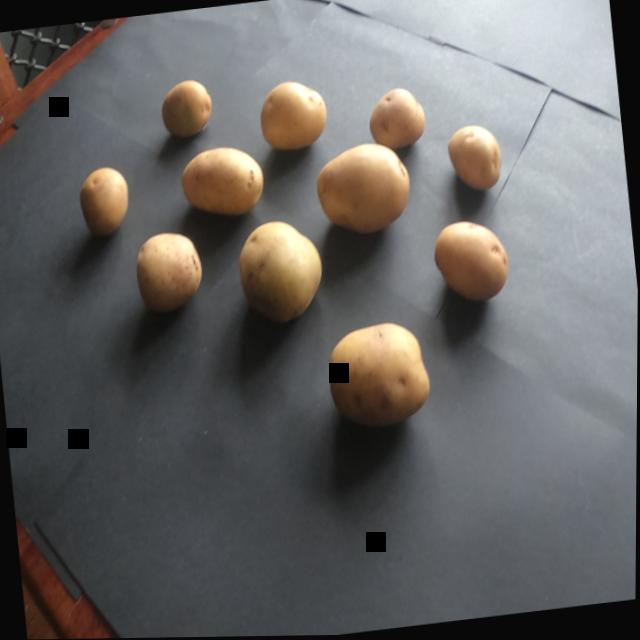Potato: (306, 309, 444, 445), (227, 212, 331, 341), (306, 131, 420, 245), (425, 209, 522, 323), (125, 222, 212, 336), (170, 136, 272, 224), (355, 67, 442, 159), (253, 72, 335, 157), (71, 147, 141, 246), (437, 111, 512, 197), (147, 71, 221, 148)
